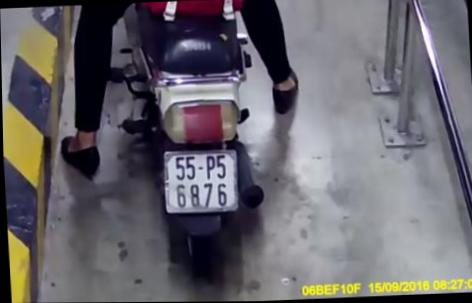LP: (161, 147, 240, 215)
